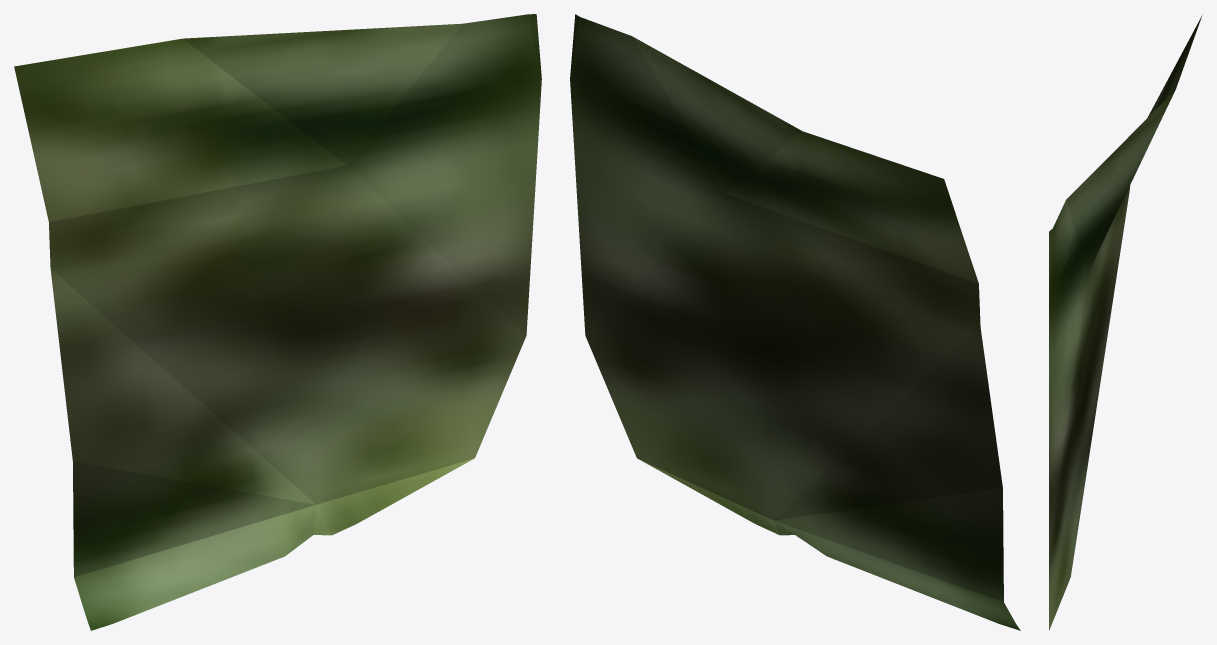
3 views of the same model, side by side, from view 1: azimuth 30°, elevation 25°; view 2: azimuth 150°, elevation 25°; view 3: azimuth 270°, elevation 25° (orthographic).
Bounding box in the file's own units: 0.4728 × 0.5091 × 0.1395.
Materials: 1 (1 with a texture image).
